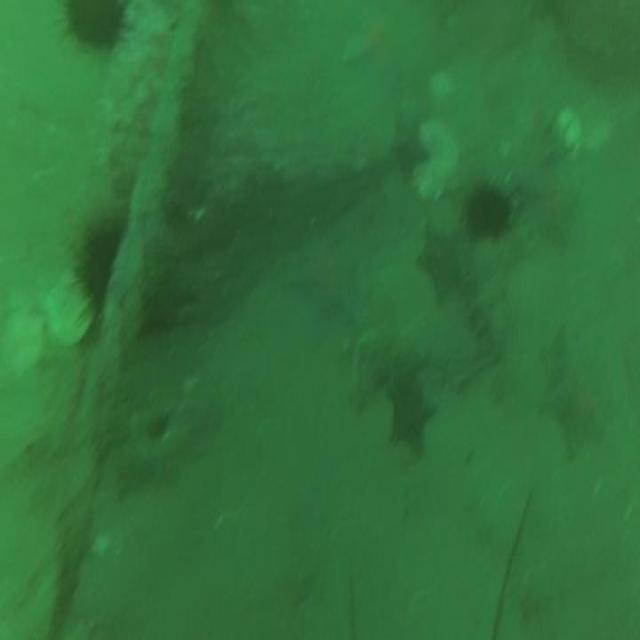echinus: (78, 229, 121, 307), (64, 0, 123, 52), (467, 182, 508, 237)
scallop: (44, 272, 92, 346)
starfish: (290, 245, 365, 335), (383, 376, 437, 455), (415, 226, 461, 300), (392, 116, 428, 180)
